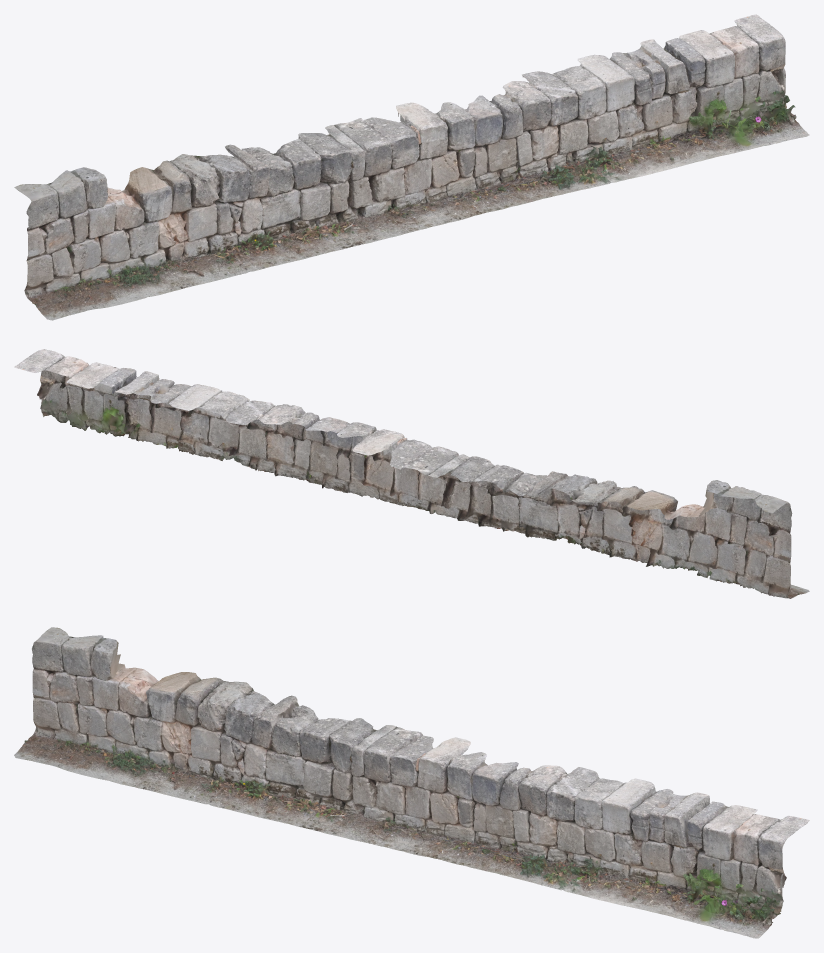
The model's file is sf-small-stone-cubes-fence-73545b.glb.
3 renders of one model, top to bottom at view 1: azimuth 30°, elevation 25°; view 2: azimuth 150°, elevation 25°; view 3: azimuth 330°, elevation 25°, orthographic. The views are drawn at different scales.
Parts seen in each view (by area): view 1: favi_murikII_favi_murikII_u1_v1_0; view 2: favi_murikII_favi_murikII_u1_v1_0; view 3: favi_murikII_favi_murikII_u1_v1_0.
Part boxes in pixels (x1,y1,x2,y2): favi_murikII_favi_murikII_u1_v1_0: [14, 14, 809, 320]; favi_murikII_favi_murikII_u1_v1_0: [14, 349, 809, 598]; favi_murikII_favi_murikII_u1_v1_0: [14, 627, 809, 938].
Bounding box in the file's own units: 4.64 × 0.6483 × 0.5701.
1 material, 1 textured.
